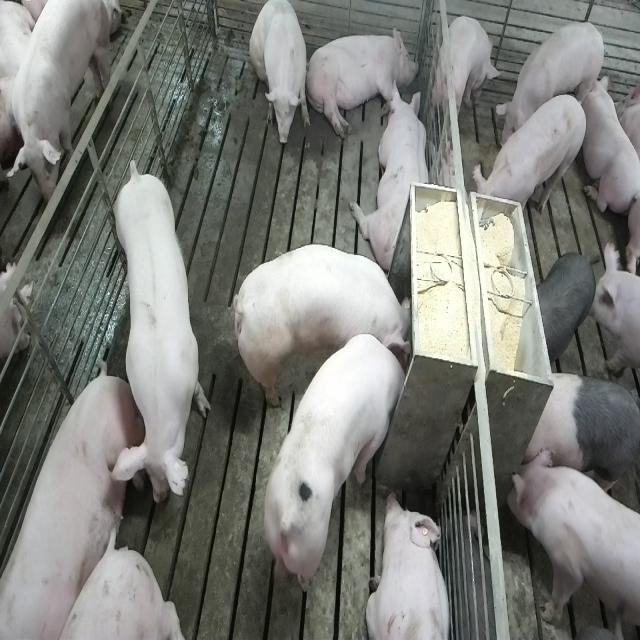Feeding: (263, 330, 411, 595), (240, 243, 420, 408)
Lateral_lying: (304, 22, 418, 141)
Sitting: (250, 0, 310, 147)
Standing: (113, 154, 211, 510), (505, 446, 639, 640), (0, 0, 116, 219), (517, 371, 638, 519), (474, 91, 588, 223), (494, 19, 606, 148), (436, 14, 503, 130), (592, 242, 640, 396), (534, 252, 596, 366)
Sternal_lying: (352, 80, 432, 275), (368, 490, 454, 640), (580, 71, 637, 217)
